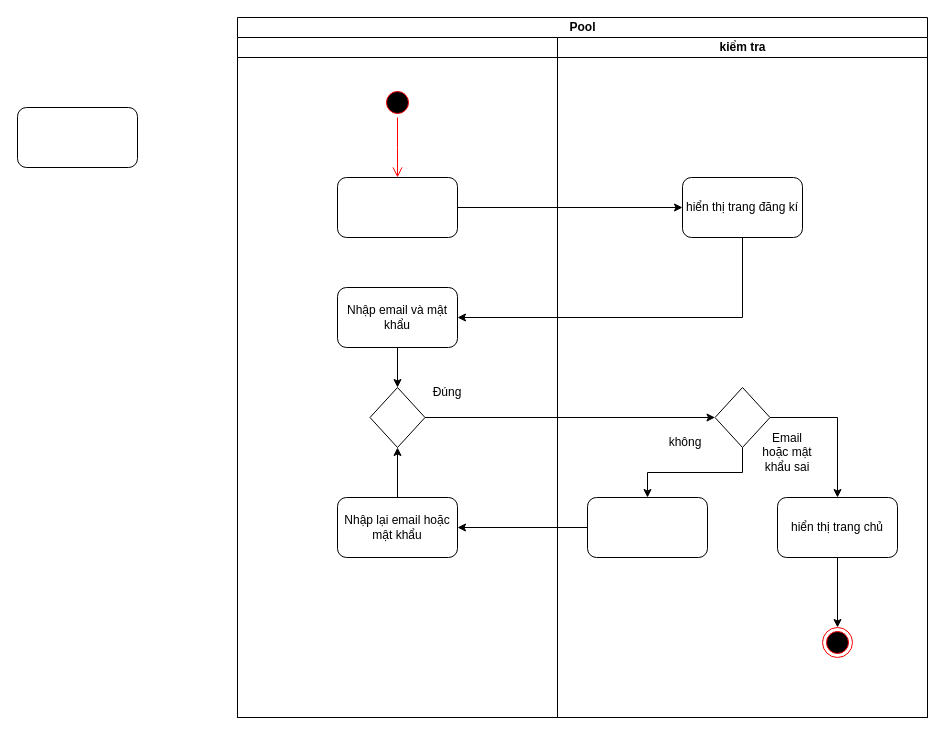
This 945x735 diagram has some shape labels left out. The shapes that lost their labels are listed below. From the top down, each one's box as (x1, y1, x2, y2) in pixels, then its label:
(336, 176, 458, 238): Chọn nút đăng kí
(236, 36, 558, 718): User
(586, 496, 708, 558): Hiển thị trang báo lỗi
